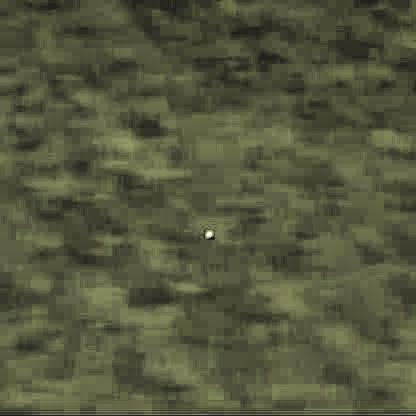golfball: (202, 224, 212, 235)
